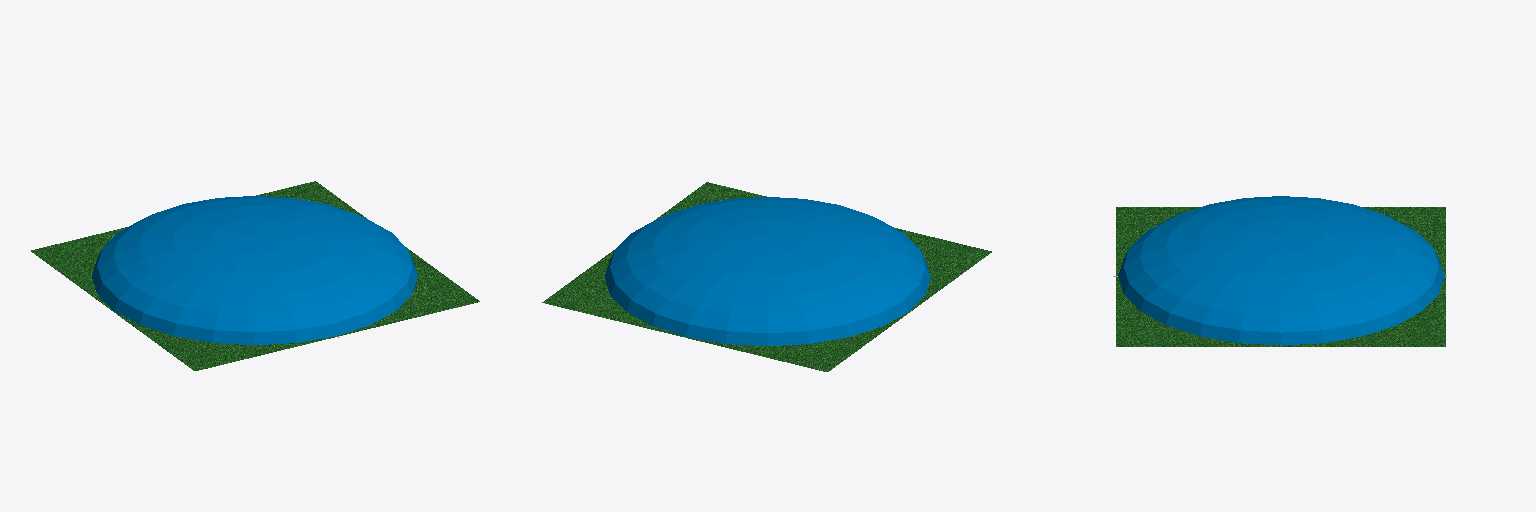
The picture shows the model from 3 angles: view 1: azimuth 30°, elevation 25°; view 2: azimuth 150°, elevation 25°; view 3: azimuth 270°, elevation 25°; orthographic projection.
Visible parts, largest first — view 1: sky_and_ground.obj; view 2: sky_and_ground.obj; view 3: sky_and_ground.obj.
Boxes of the visible parts, box(x1,y1,x2,y2) form: sky_and_ground.obj: box(31, 181, 479, 370); sky_and_ground.obj: box(542, 182, 991, 371); sky_and_ground.obj: box(1113, 196, 1446, 346).
Bounding box in the file's own units: 3420 × 481 × 3466.
7 materials, 3 textured.